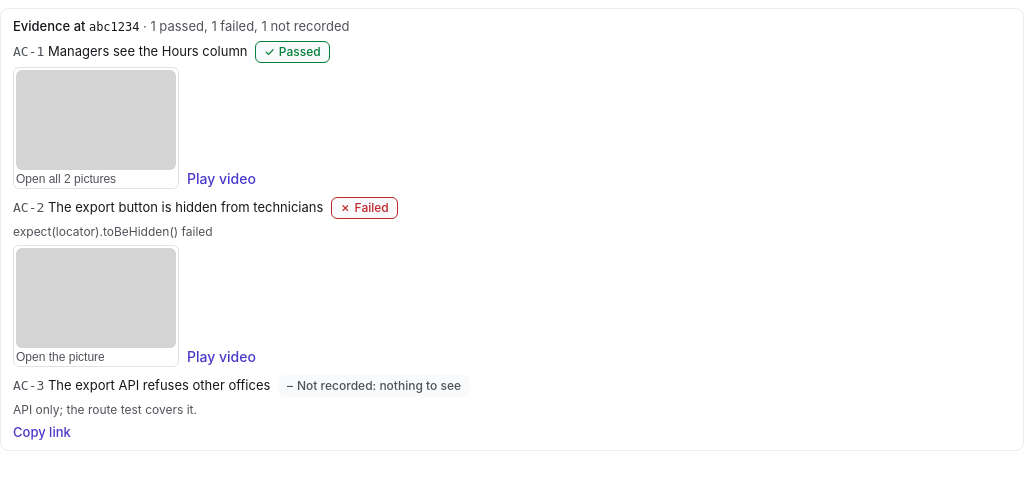
it: EvidenceStrip › Copy link copies the evidence folder’s address for the ticket
The width and height of the screenshot is (1024, 492).
Click the button "Copy link".
click(42, 433)  # box [13,418,71,447]
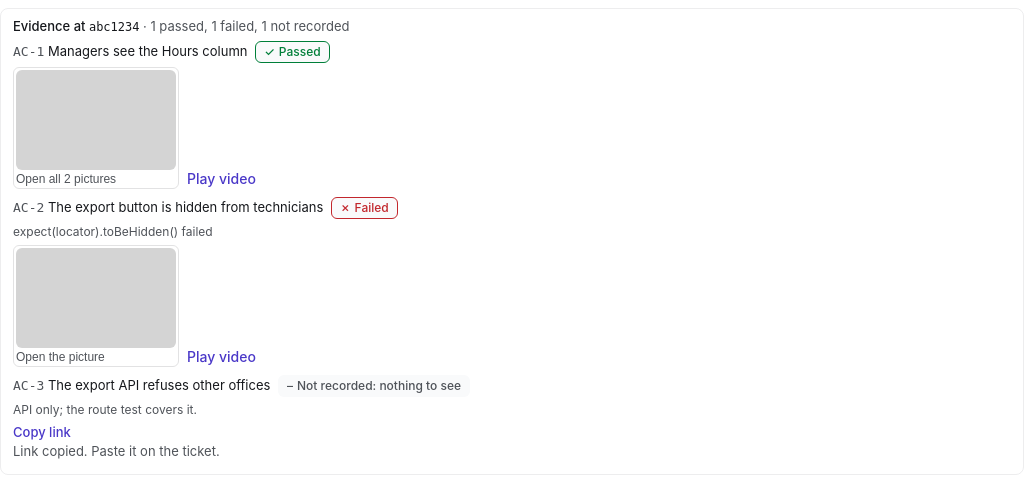
Expected: the message reads "Link copied. Paste it on the ticket.", [13,443,220,459]
